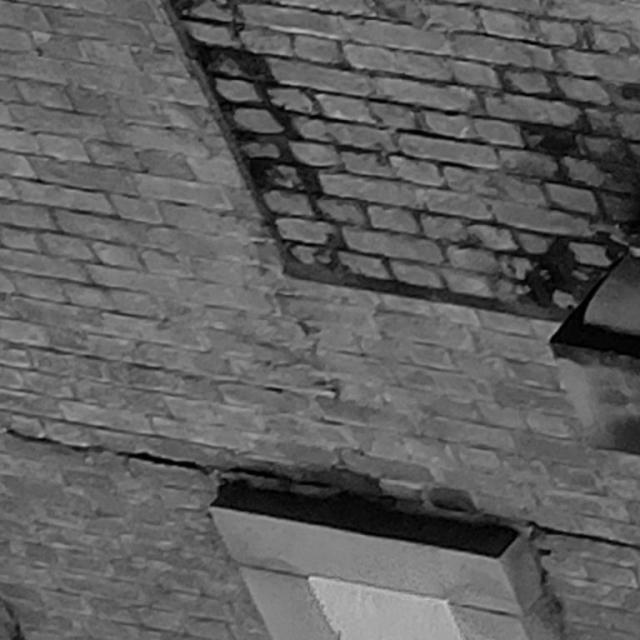crack: (5, 427, 640, 548)
